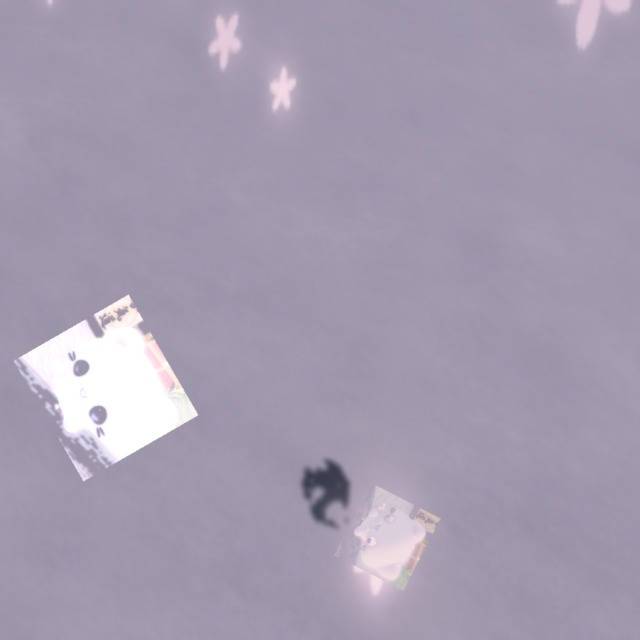urso_branco: (13, 294, 199, 482), (334, 483, 441, 591)
urso_preto: (294, 448, 361, 540)
